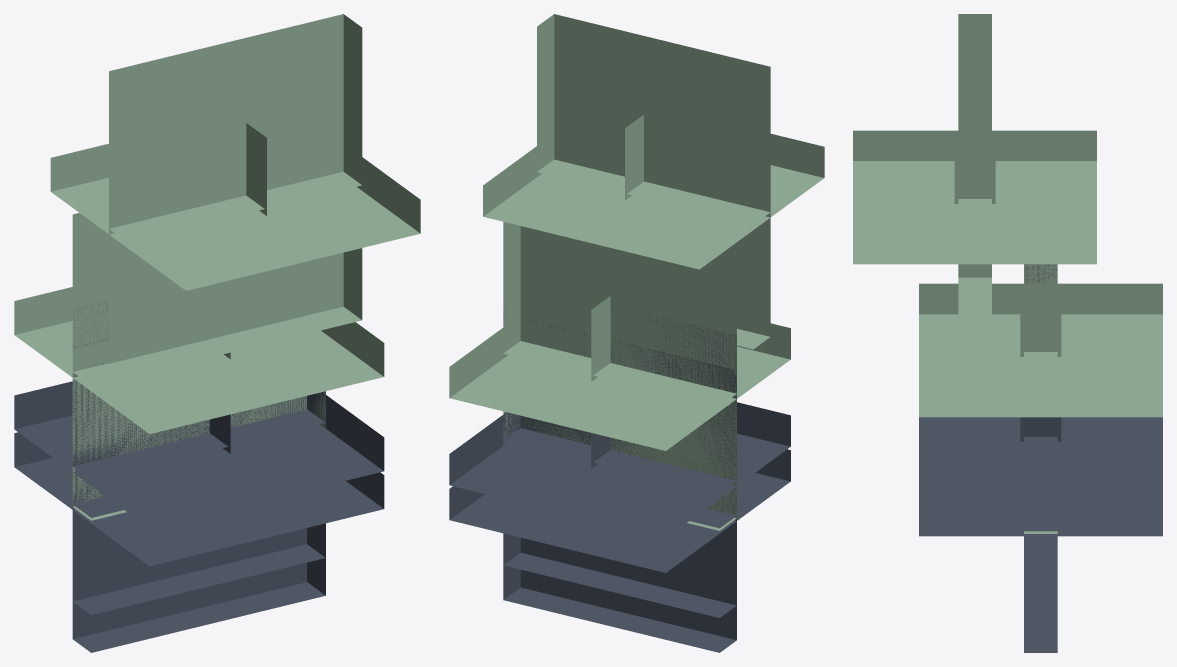
File: chair.glb
The picture shows the model from 3 angles, left to right: view 1: azimuth 30°, elevation 25°; view 2: azimuth 150°, elevation 25°; view 3: azimuth 270°, elevation 25°; orthographic projection. The views are drawn at different scales.
Size of the model in its own units: 1.3 by 3.15 by 1.65.
